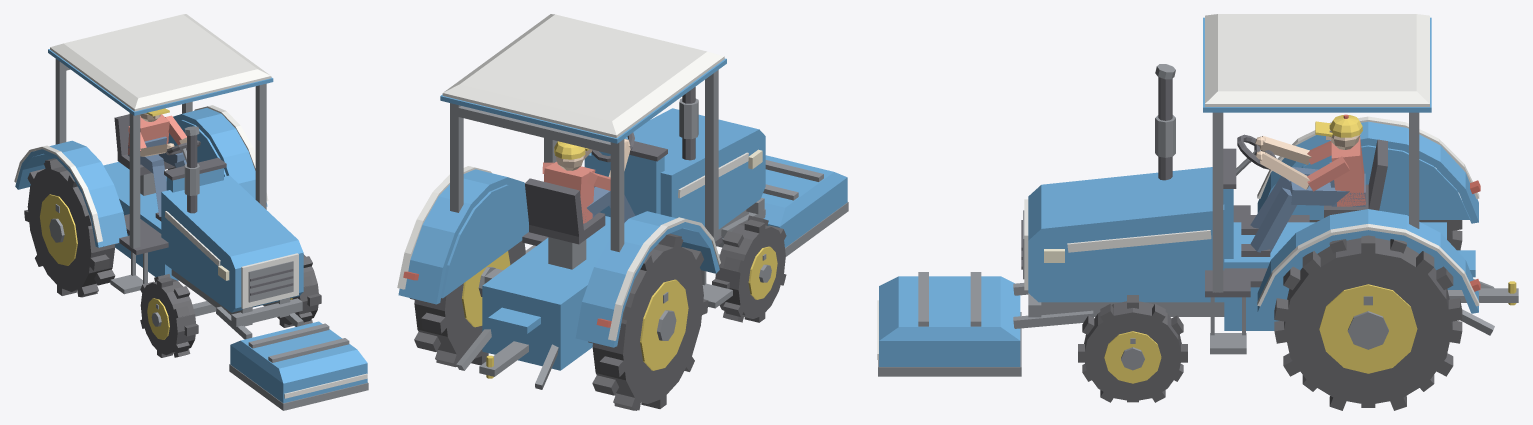
File: tractor.glb
3 renders of one model, left to right at view 1: azimuth 30°, elevation 25°; view 2: azimuth 150°, elevation 25°; view 3: azimuth 270°, elevation 25°, orthographic. The views are drawn at different scales.
Parts seen in each view (by area): view 1: canopy, hood, deck_shell, tyre_BR, fender_R, fender_L, tyre_FR, transmission, rim_BR, post_F_R, post_F_L, tread_BR (+28 smaller); view 2: canopy, transmission, hood, tyre_BR, fender_R, fender_L, fender_wall_L, deck_shell, tyre_FR, rim_BR, seat_back, tyre_BL (+30 smaller); view 3: hood, canopy, tyre_BL, deck_shell, rim_BL, tyre_FL, fender_L, fender_wall_R, tread_BL, fender_R, transmission, post_F_L (+27 smaller).
Part boxes in pixels (x1,y1,x2,y2): canopy: (50, 14, 271, 111); hood: (161, 175, 303, 312); deck_shell: (230, 321, 367, 403); tyre_BR: (27, 166, 114, 291); fender_R: (15, 140, 127, 247); fender_L: (173, 108, 267, 206); tyre_FR: (140, 278, 195, 355); transmission: (103, 161, 178, 280); rim_BR: (40, 194, 77, 265); post_F_R: (129, 113, 140, 248); post_F_L: (255, 83, 266, 209); tread_BR: (24, 158, 118, 297); canopy: (442, 14, 724, 137); transmission: (482, 216, 610, 370); hood: (584, 108, 765, 229); tyre_BR: (592, 244, 703, 403); fender_R: (575, 211, 719, 347); fender_L: (398, 169, 525, 304); fender_wall_L: (440, 184, 528, 298); deck_shell: (761, 155, 847, 247); tyre_FR: (715, 221, 785, 318); rim_BR: (640, 279, 688, 370); seat_back: (525, 178, 583, 236); tyre_BL: (414, 240, 525, 358); hood: (1028, 167, 1224, 302); canopy: (1205, 14, 1429, 106); tyre_BL: (1284, 238, 1452, 404); deck_shell: (879, 276, 1020, 366); rim_BL: (1319, 284, 1417, 373); tyre_FL: (1083, 301, 1181, 401); fender_L: (1257, 209, 1478, 313); fender_wall_R: (1292, 145, 1470, 219); tread_BL: (1274, 235, 1462, 410); fender_R: (1257, 121, 1478, 223); transmission: (1224, 222, 1446, 330); post_F_L: (1212, 112, 1223, 292).
Bounding box in the file's own units: 2.01 × 2.6 × 4.91.
